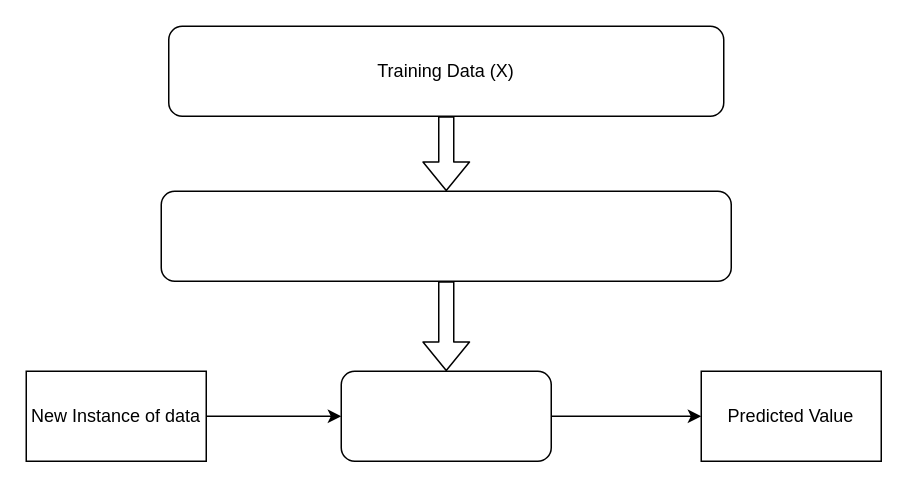
Image size: 908x488. Some labels were removed from this diagram. Here are the shapes that lost their labels. From the top down, the box of each, then its label:
(160, 190, 731, 281): Learning Algorithm
(340, 370, 551, 461): H(x)
